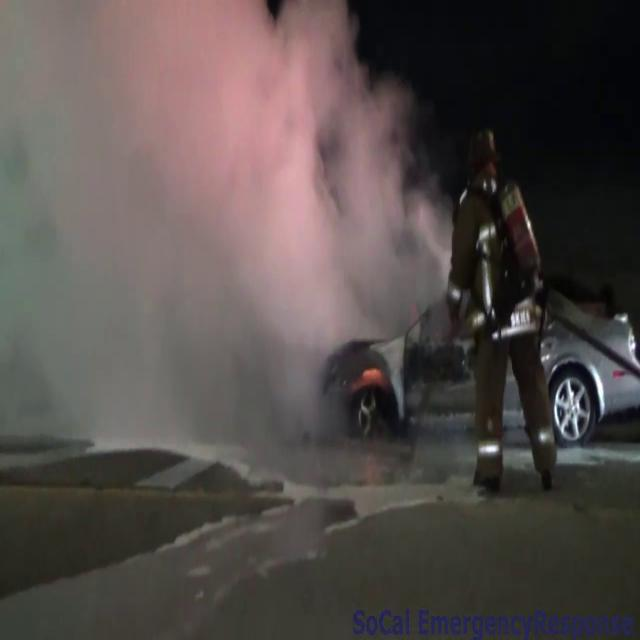Smoke: (0, 0, 446, 462)
